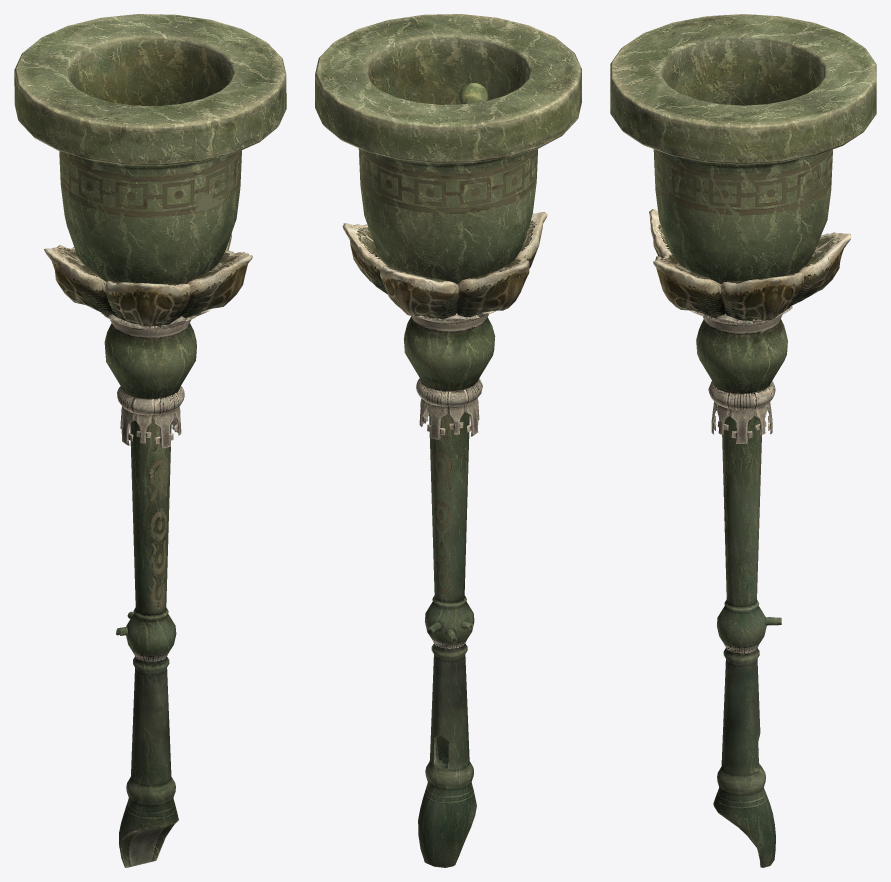
Rendered from hue002.obj.
3 renders of one model, left to right at view 1: azimuth 30°, elevation 25°; view 2: azimuth 150°, elevation 25°; view 3: azimuth 270°, elevation 25°, orthographic.
Parts seen in each view (by area): view 1: hue002_001_LOD_1; view 2: hue002_001_LOD_1, hue002_000_LOD_1; view 3: hue002_001_LOD_1.
Part boxes in pixels (bbox=[...]): hue002_001_LOD_1: bbox=[14, 14, 286, 867]; hue002_001_LOD_1: bbox=[315, 14, 581, 867]; hue002_000_LOD_1: bbox=[459, 83, 488, 104]; hue002_001_LOD_1: bbox=[610, 14, 876, 867].
Bounding box in the file's own units: 89.63 × 291 × 88.74.
